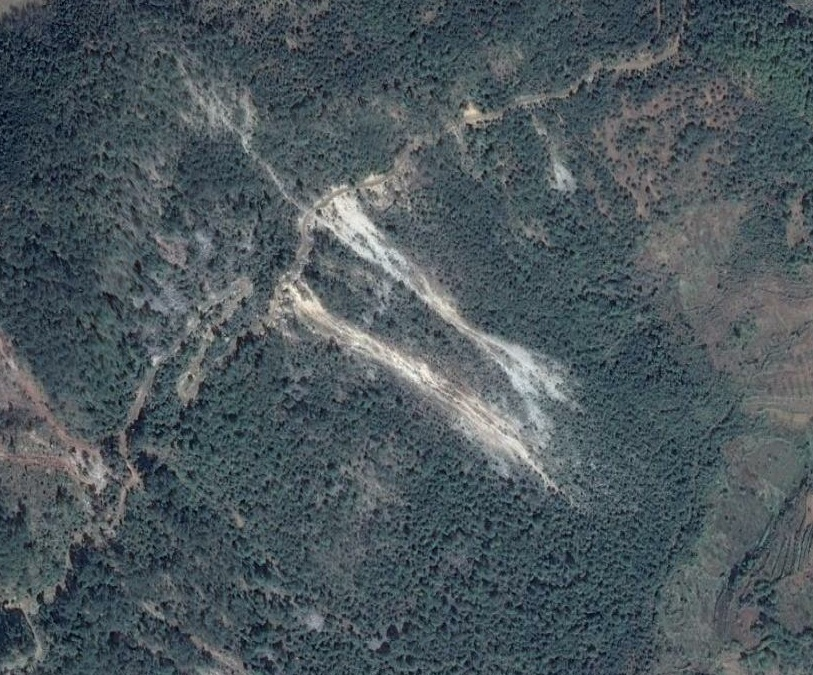slope: (313, 164, 579, 432), (277, 271, 534, 471)
